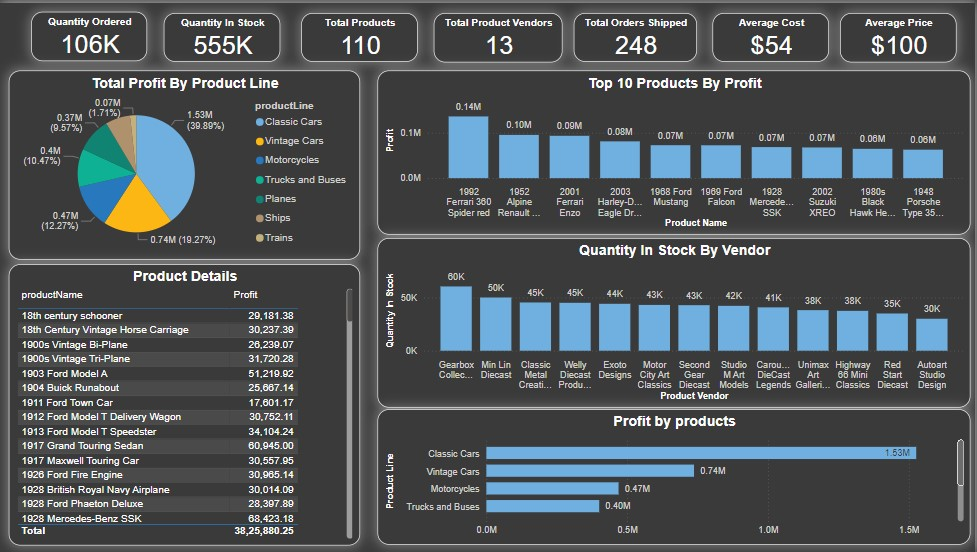

The dashboard page shown, as its layout file describes it:
{"tool":"powerbi","page":{"name":"Product Dashboard","canvas":[1280,720],"ordinal":1},"visuals":[{"type":"card","title":"Total Products","fields":{"Values":["Count(classicmodels products.productName)"]},"box":[395.7,12.8,153.2,63.8],"z":0},{"type":"card","title":"Total Product Vendors","fields":{"Values":["Count(classicmodels products.productVendor)"]},"box":[568.1,12.8,169.1,64.9],"z":1000},{"type":"card","title":"Total Orders Shipped","fields":{"Values":["PBIElements.Total orders shipped"]},"box":[753.2,13.8,161.7,63.8],"z":2000},{"type":"card","title":"Quantity In Stock","fields":{"Values":["Sum(classicmodels products.quantityInStock)"]},"box":[214.9,12.8,153.2,63.8],"z":3000},{"type":"card","title":"Quantity Ordered","fields":{"Values":["Sum(classicmodels orderdetails.quantityOrdered)"]},"box":[41.5,11.7,152.1,64.9],"z":4000},{"type":"card","title":"Average Cost","fields":{"Values":["PBIElements.Average Cost"]},"box":[934,13.8,153.2,63.8],"z":5000},{"type":"card","title":"Average Price","fields":{"Values":["PBIElements.Average price"]},"box":[1102.1,13.8,153.2,64.9],"z":6000},{"type":"pieChart","title":"Total Profit By Product Line","fields":{"Category":["classicmodels products.productLine"],"Y":["PBIElements.Profit"]},"box":[12.2,88.9,461.1,247.8],"z":7000},{"type":"columnChart","title":"Top 10 Products  By Profit","fields":{"Category":["classicmodels products.productName"],"Y":["PBIElements.Profit"]},"box":[494.4,88.9,777.8,215.6],"z":8000},{"type":"clusteredColumnChart","title":"Quantity In Stock By Vendor","fields":{"Y":["Sum(classicmodels products.quantityInStock)"],"Category":["classicmodels products.productVendor"]},"box":[494.4,307.8,777.8,222.2],"z":9000},{"type":"tableEx","title":"Product Details","fields":{"Values":["classicmodels products.productName","PBIElements.Profit"]},"box":[12.2,342.2,461.1,368.9],"z":10000},{"type":"clusteredBarChart","title":"Profit by products","fields":{"Category":["classicmodels products.productLine"],"Y":["PBIElements.Profit"]},"box":[494.4,533.3,777.8,177.8],"z":11000}]}

Visuals, with their boxes in screenshot pixels (x1, y1, x2, y2), scaled from the page's 1280x720 canvas onto the 977x552 screenshot:
"Total Products" card: <region>302, 10, 419, 59</region>
"Total Product Vendors" card: <region>434, 10, 563, 60</region>
"Total Orders Shipped" card: <region>575, 11, 698, 59</region>
"Quantity In Stock" card: <region>164, 10, 281, 59</region>
"Quantity Ordered" card: <region>32, 9, 148, 59</region>
"Average Cost" card: <region>713, 11, 830, 59</region>
"Average Price" card: <region>841, 11, 958, 60</region>
"Total Profit By Product Line" pieChart: <region>9, 68, 361, 258</region>
"Top 10 Products  By Profit" columnChart: <region>377, 68, 971, 233</region>
"Quantity In Stock By Vendor" clusteredColumnChart: <region>377, 236, 971, 406</region>
"Product Details" tableEx: <region>9, 262, 361, 545</region>
"Profit by products" clusteredBarChart: <region>377, 409, 971, 545</region>
